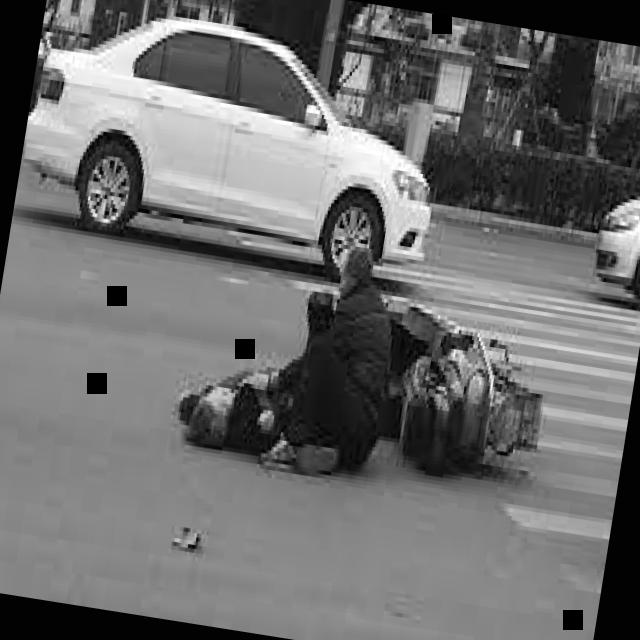Fall-Detected: (172, 312, 316, 462)
